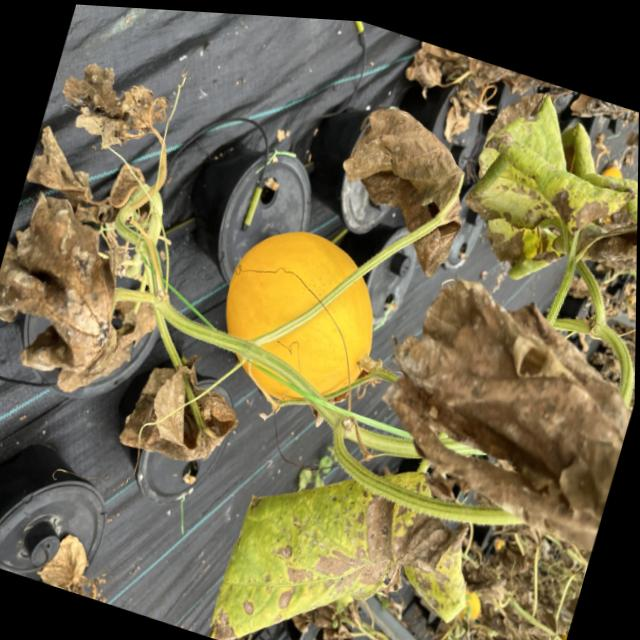alternaria leaf blight: (196, 420, 492, 640)
bacterial wilt: (0, 190, 165, 400), (332, 93, 497, 275), (464, 141, 623, 294), (117, 353, 239, 483), (76, 50, 172, 147), (593, 204, 637, 326)
